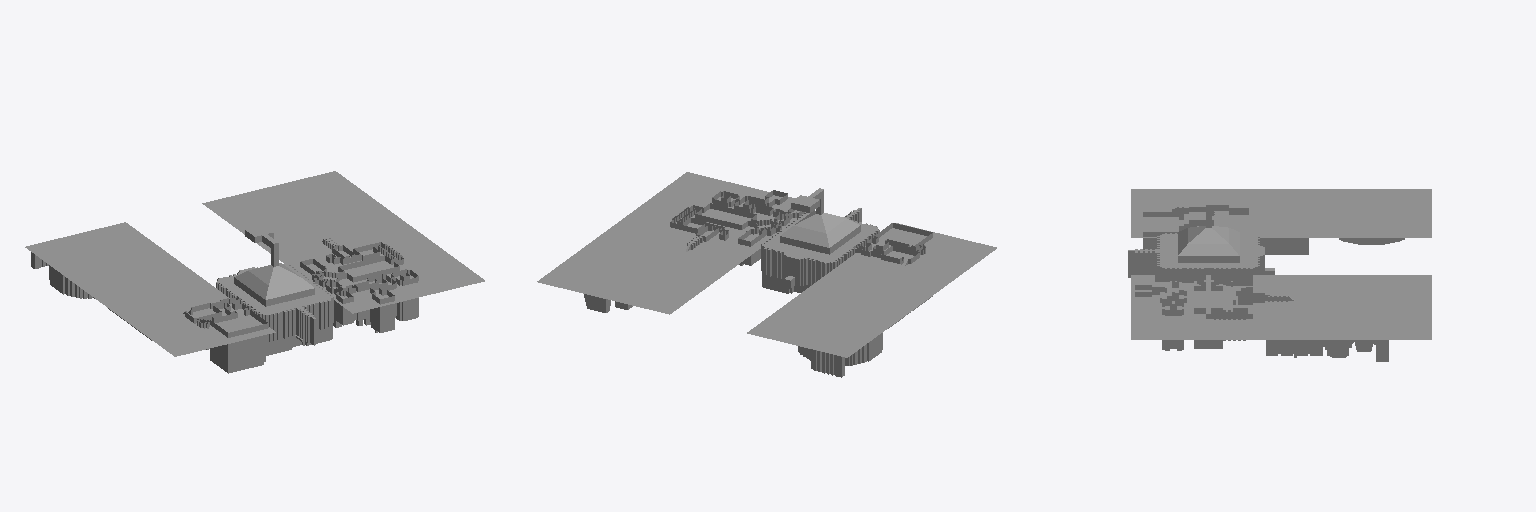
3 renders of one model, left to right at view 1: azimuth 30°, elevation 25°; view 2: azimuth 150°, elevation 25°; view 3: azimuth 270°, elevation 25°, orthographic.
Visible parts, largest first — view 1: Plane.006_Plane.007; view 2: Plane.006_Plane.007; view 3: Plane.006_Plane.007.
Boxes of the visible parts, box(x1,y1,x2,y2) form: Plane.006_Plane.007: box(25, 171, 484, 373); Plane.006_Plane.007: box(537, 172, 996, 377); Plane.006_Plane.007: box(1128, 189, 1431, 361).
Bounding box in the file's own units: 2.29 × 0.6206 × 1.94.